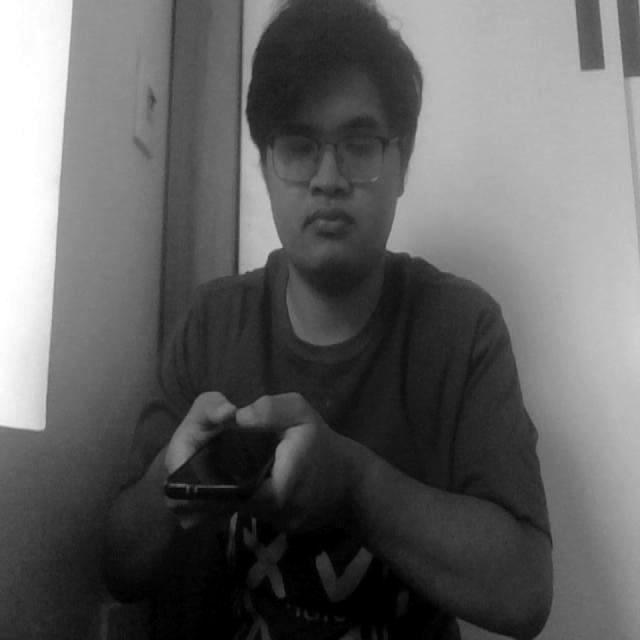phone: (152, 386, 303, 524)
